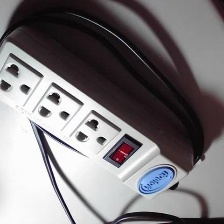three_eye_plug: (0, 19, 201, 199)
